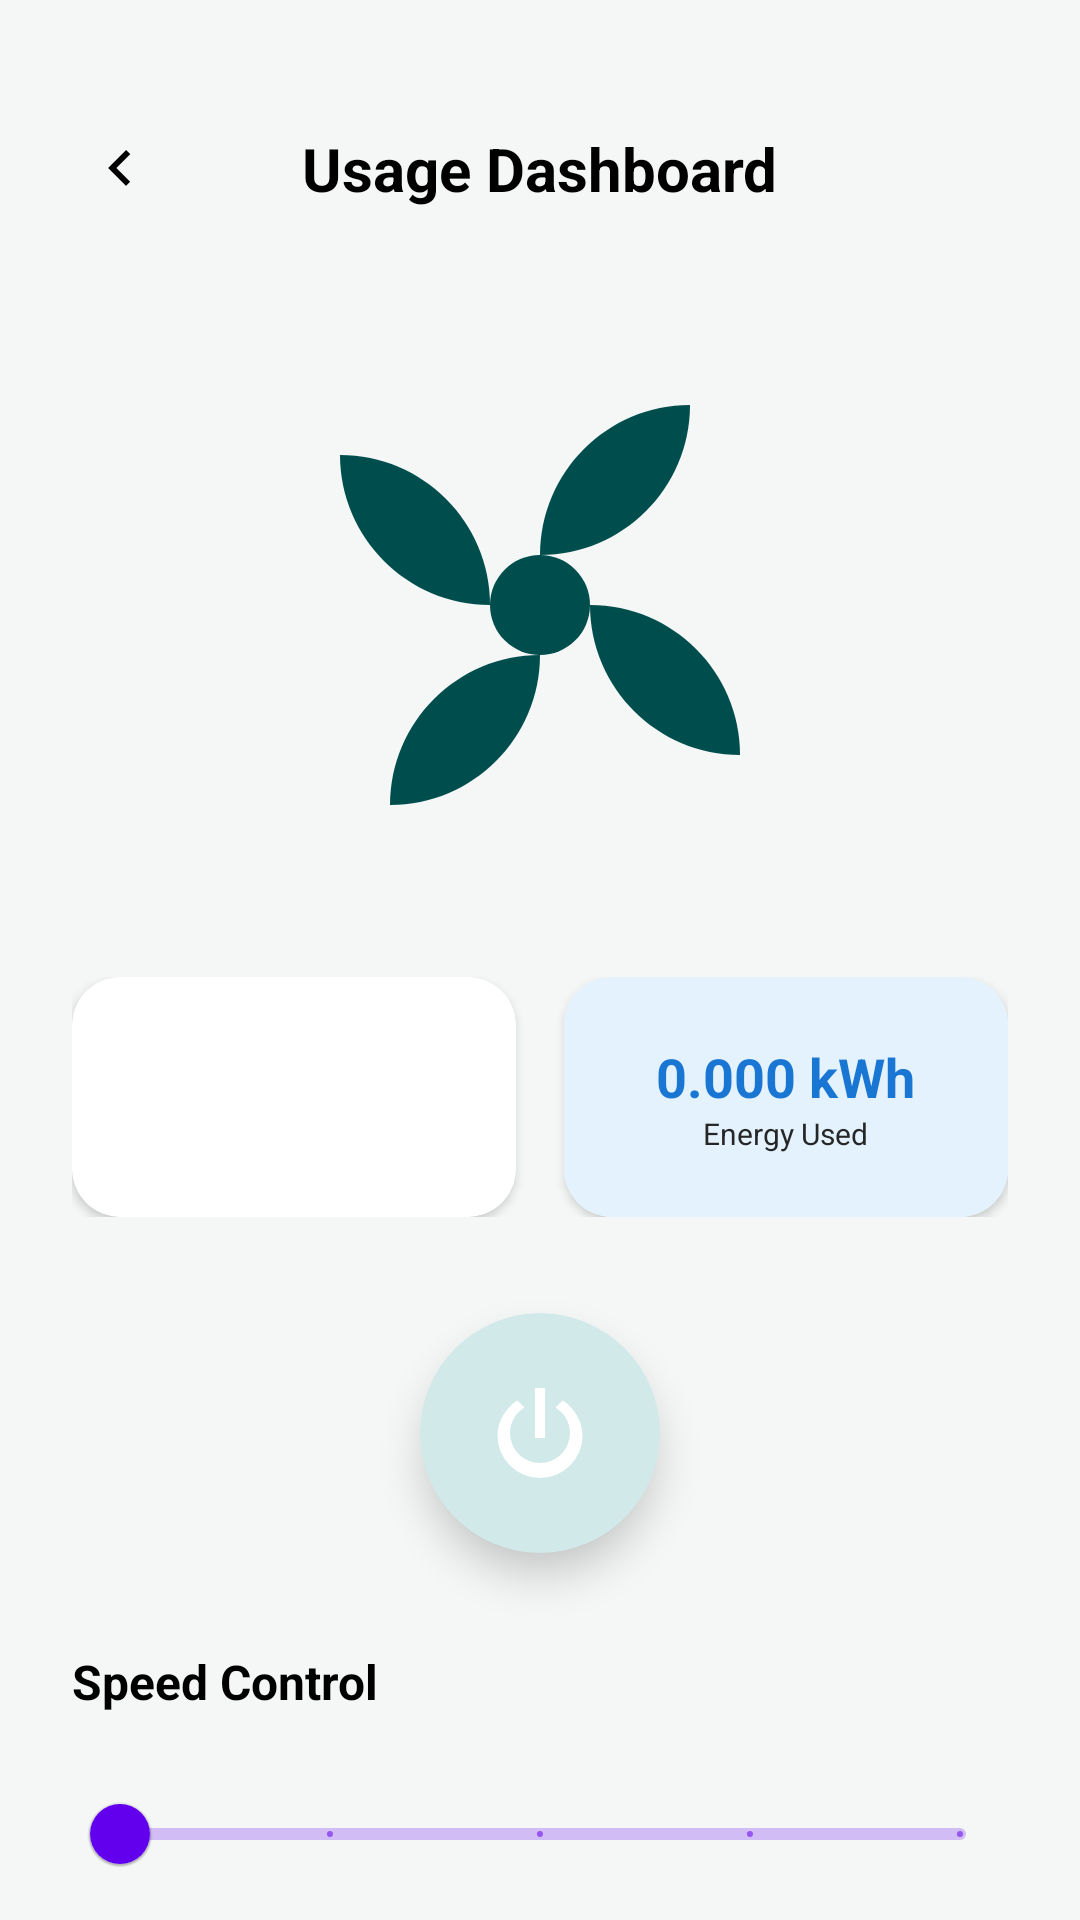

Locate icon controls on the screen. Image size 1080×1920, boxes as (x1, y1, x2, y2).
arrow back: (108, 150, 130, 186)
power: (498, 1388, 582, 1478)
